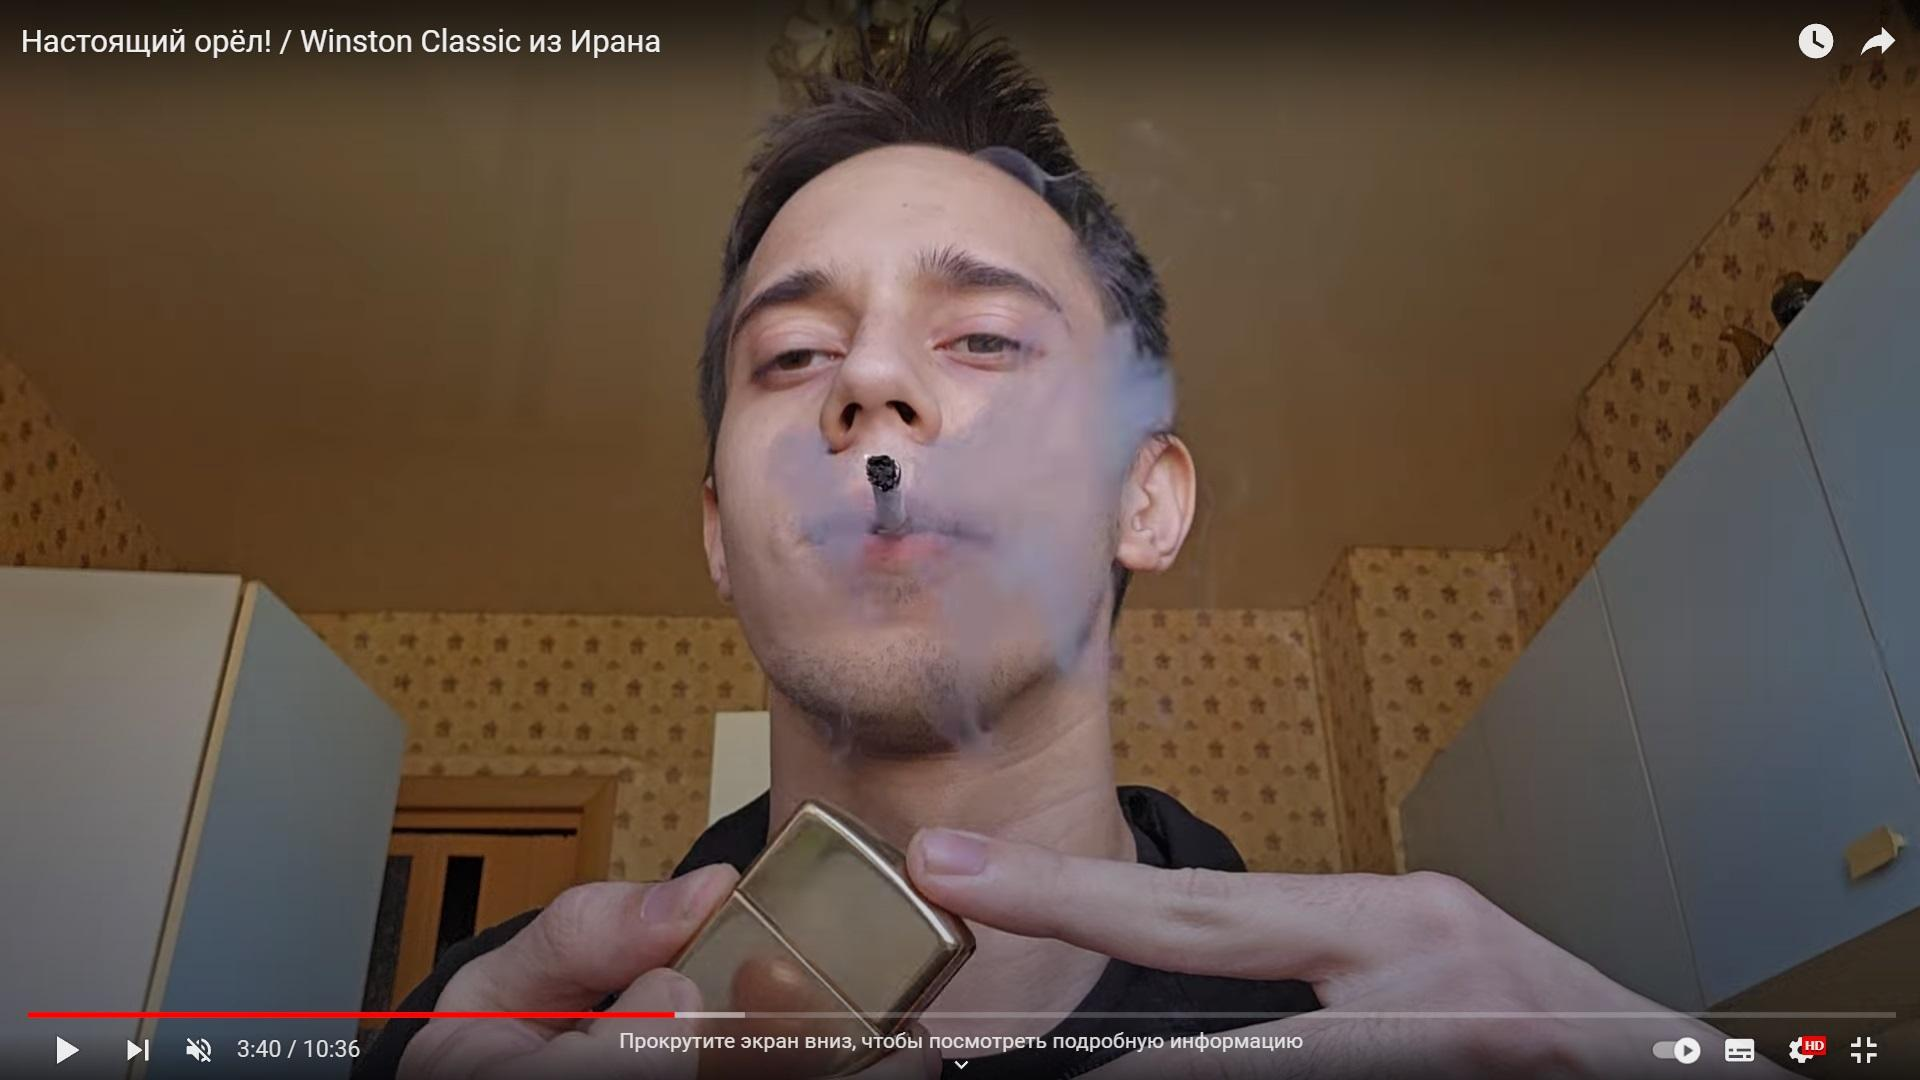cigarette: (864, 452, 909, 538)
